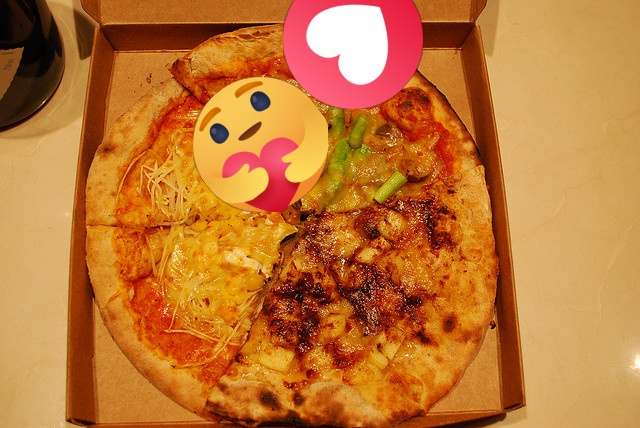care: (193, 77, 328, 212)
love: (283, 0, 423, 109)
